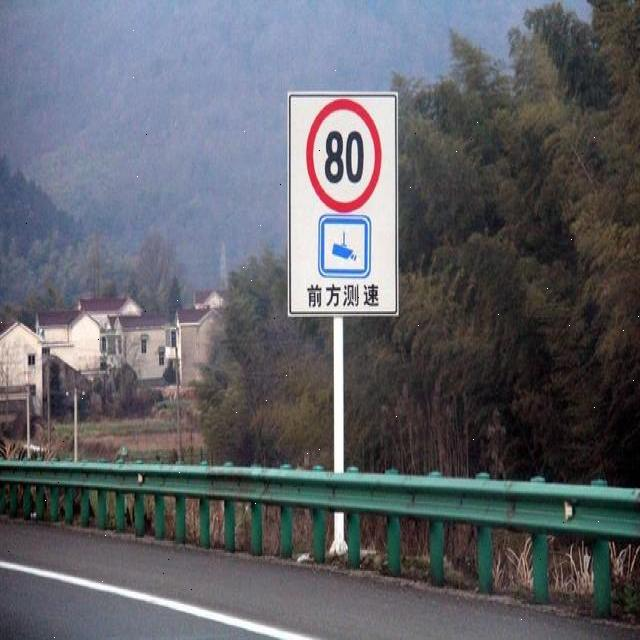speed limit 80: (304, 95, 381, 212)
